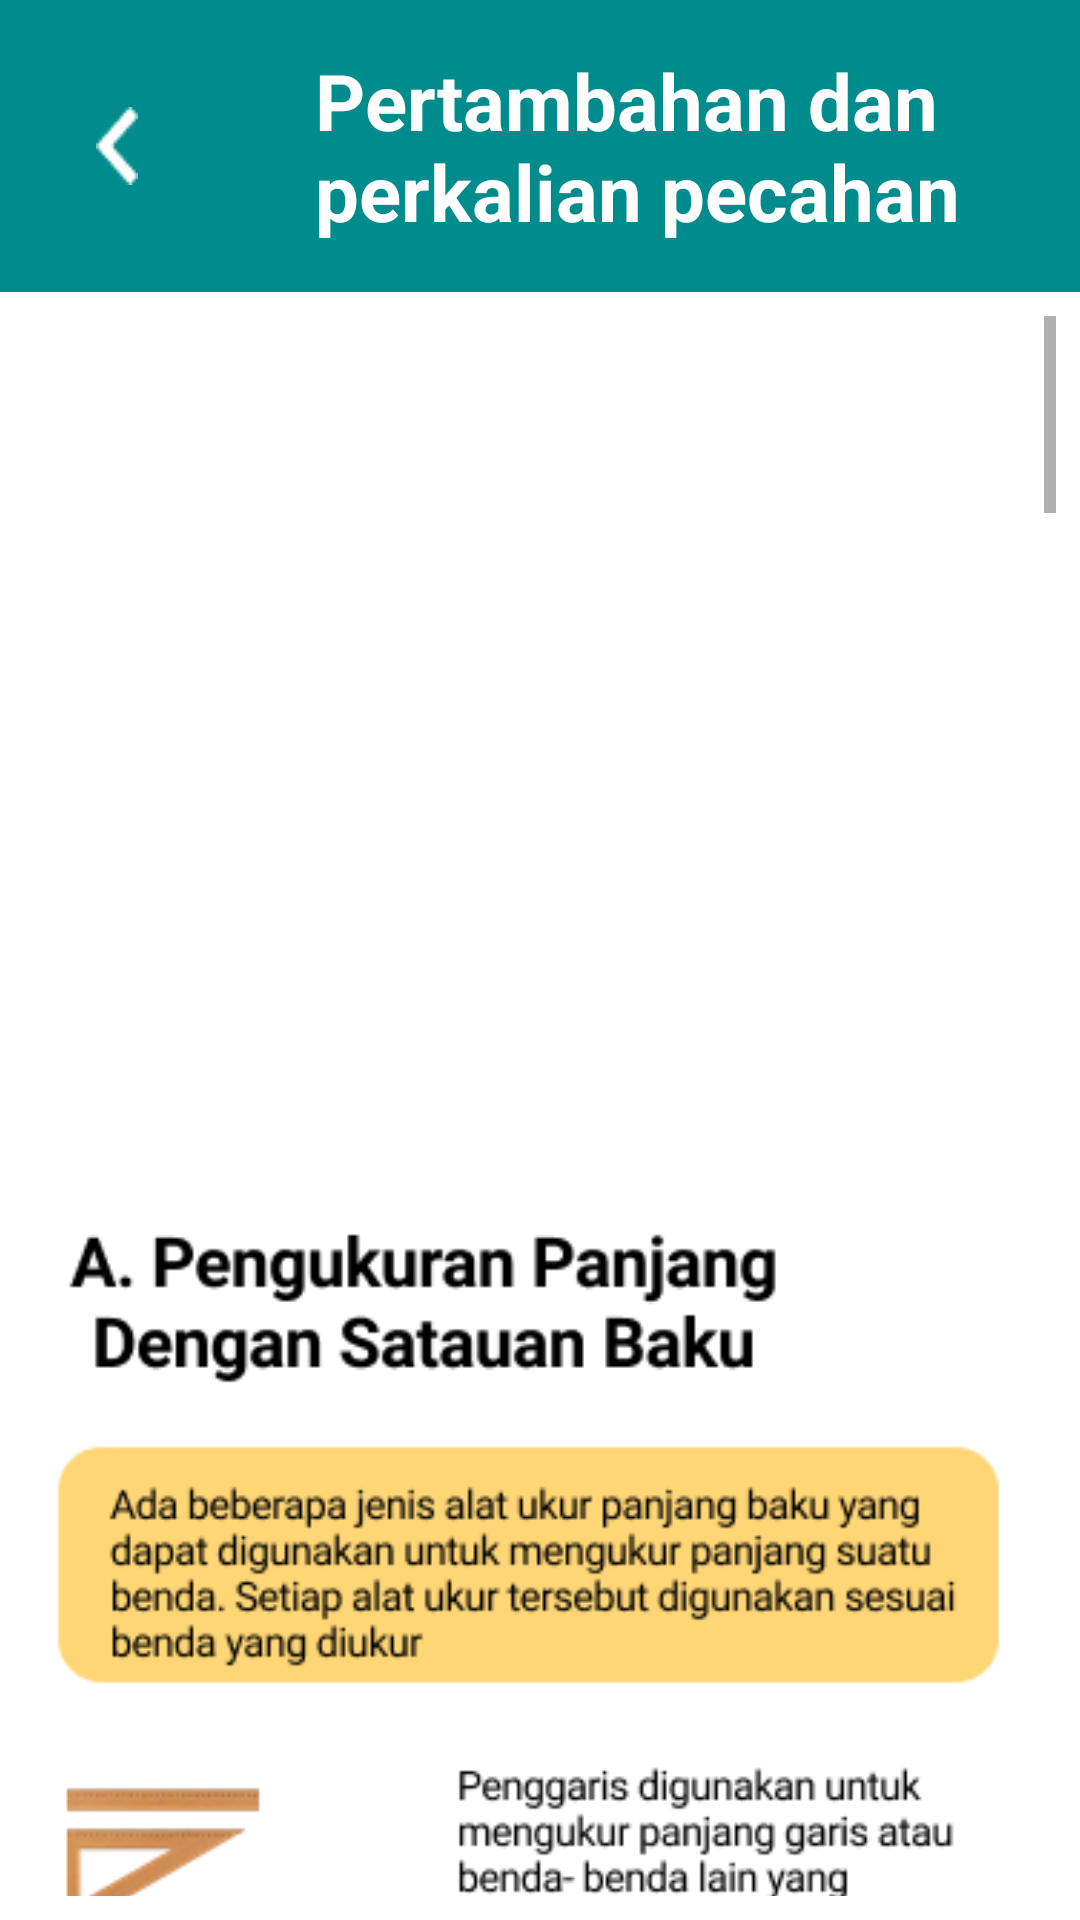

Icon bounding boxes for this 1080px x 1920px phone screenshot, format (x1,y1,x2,y2):
chevron: (96,107,138,185)
